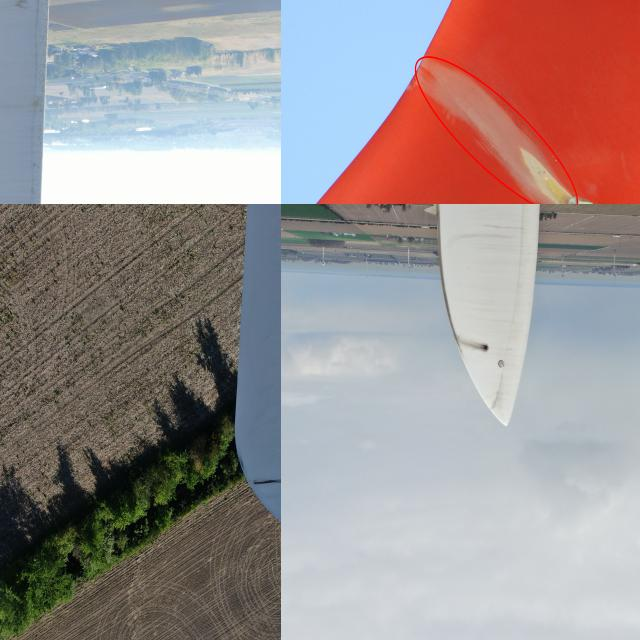damage: (510, 137, 579, 203), (248, 472, 280, 487), (482, 342, 489, 354)
